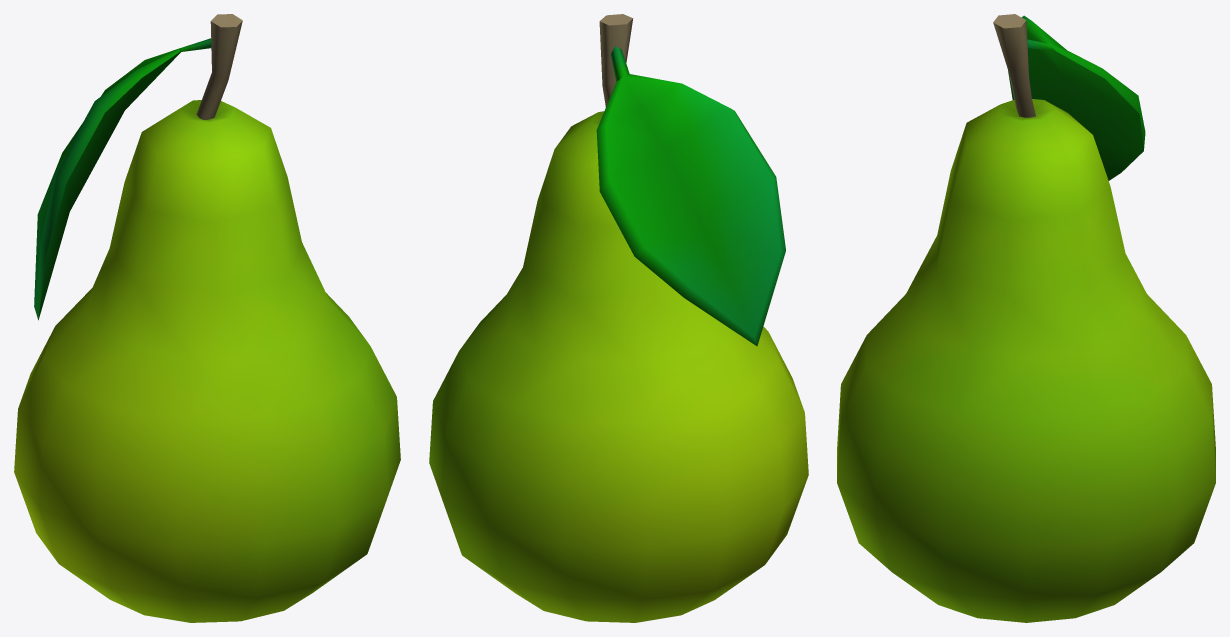
Rendered from pear.fbx.
The picture shows the model from 3 angles, left to right: view 1: azimuth 30°, elevation 25°; view 2: azimuth 150°, elevation 25°; view 3: azimuth 270°, elevation 25°; orthographic projection. The views are drawn at different scales.
Visible parts, largest first — view 1: pear; view 2: pear; view 3: pear.
Part boxes in pixels (x1,y1,x2,y2): pear: [14, 14, 400, 622]; pear: [429, 14, 808, 622]; pear: [837, 14, 1215, 622].
Size of the model in its own units: 9.44 by 15.47 by 9.2.
